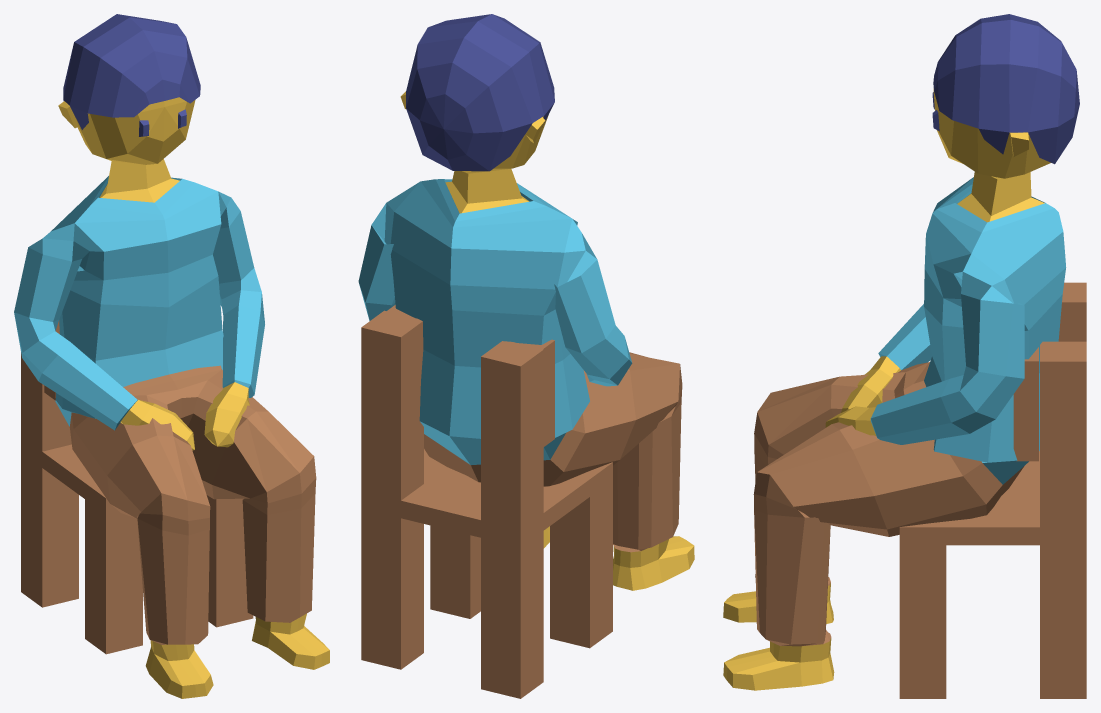
File: 084_作業(Man).glb
3 views of the same model, side by side, from view 1: azimuth 30°, elevation 25°; view 2: azimuth 150°, elevation 25°; view 3: azimuth 270°, elevation 25° (orthographic). The views are drawn at different scales.
Visible parts, largest first — view 1: 立方体044_3, 立方体044_2, 立方体044_4, 立方体044_1, 立方体044; view 2: 立方体044_4, 立方体044_3, 立方体044, 立方体044_2, 立方体044_1; view 3: 立方体044_2, 立方体044_3, 立方体044_4, 立方体044, 立方体044_1.
Boxes of the visible parts, x1,y1,x2,y2 form: 立方体044_3: (14,176,264,430); 立方体044_2: (69,365,316,644); 立方体044_4: (21,320,253,654); 立方体044_1: (58,97,329,698); 立方体044: (63,14,200,136); 立方体044_4: (361,305,612,698); 立方体044_3: (358,179,632,465); 立方体044: (406,14,554,171); 立方体044_2: (424,352,682,552); 立方体044_1: (400,91,694,590); 立方体044_2: (753,362,1024,646); 立方体044_3: (870,177,1066,484); 立方体044_4: (899,282,1086,698); 立方体044: (932,14,1079,164); 立方体044_1: (723,88,1050,690).
Bounding box in the file's own units: 0.7254 × 1.68 × 0.8644.
